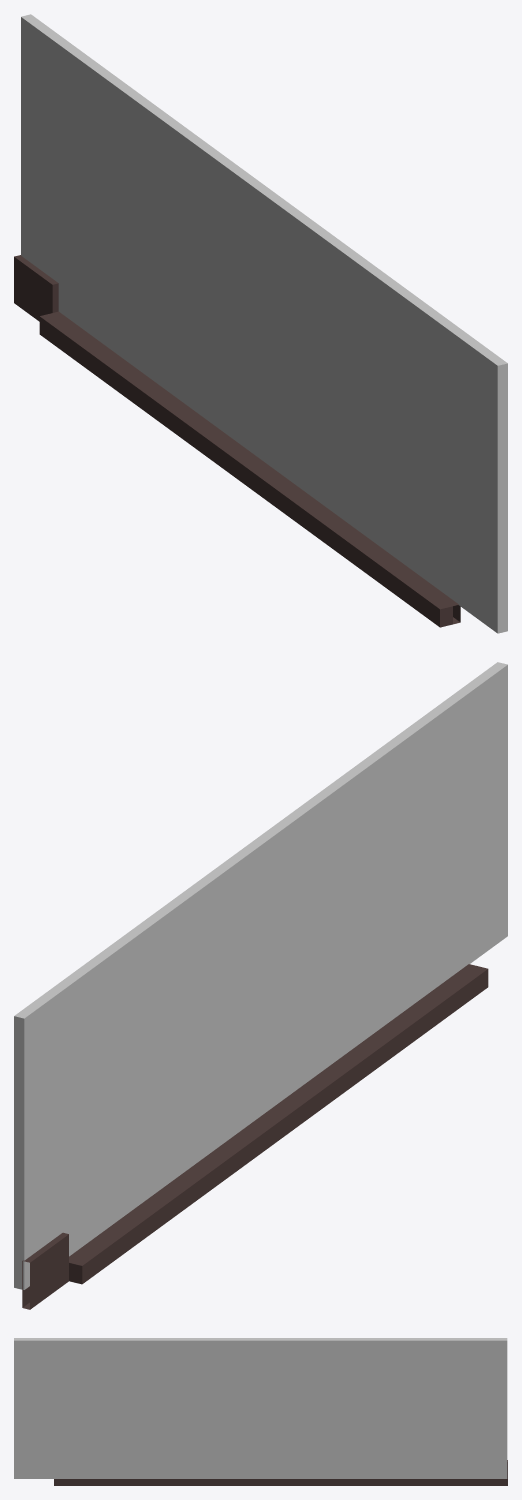
Rendered from Teacher_board.fbx.
3 renders of one model, top to bottom at view 1: azimuth 30°, elevation 25°; view 2: azimuth 150°, elevation 25°; view 3: azimuth 270°, elevation 25°, orthographic. The views are drawn at different scales.
Parts seen in each view (by area): view 1: pCube74; view 2: pCube74; view 3: pCube74.
Part boxes in pixels (x1,y1,x2,y2): pCube74: [14, 14, 507, 633]; pCube74: [14, 662, 507, 1309]; pCube74: [14, 1338, 507, 1485].
Size of the model in its own units: 0.5635 by 5.23 by 15.88.
